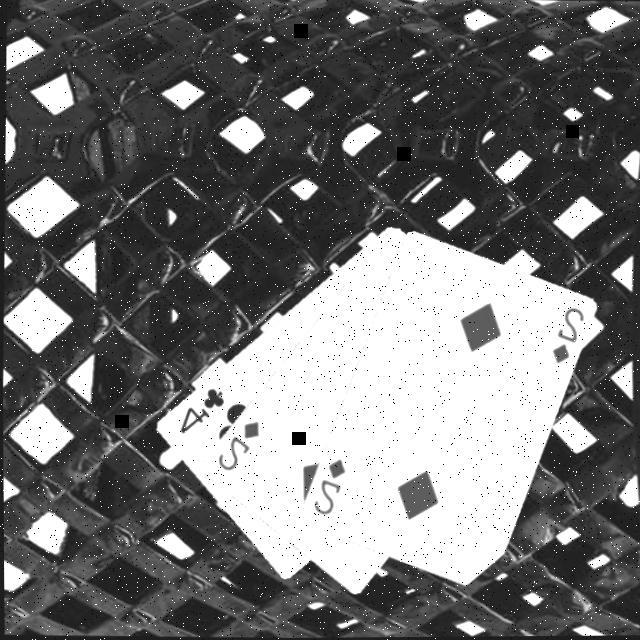2D: (213, 418, 262, 476), (308, 457, 348, 520), (547, 306, 587, 369)
4C: (175, 385, 228, 440)
